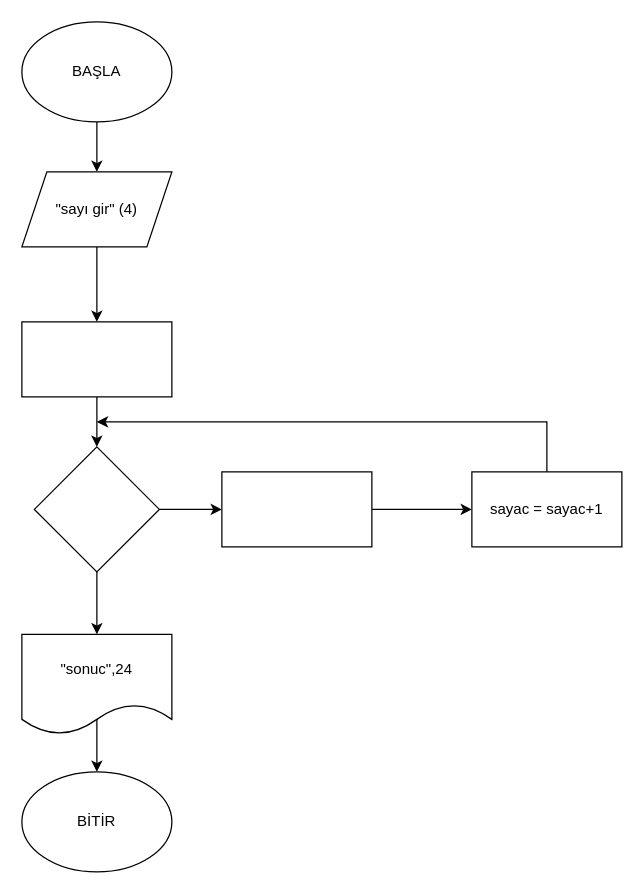
This 644x894 diagram has some shape labels left out. The shapes that lost their labels are listed below. From the top down, each one's centre as x and y in pixels, then its label:
At [96,359]: "sayac=1 sonuc=1".
At [96,509]: "sayac<=4".
At [296,509]: "sonuc = sonuc*sayac".
